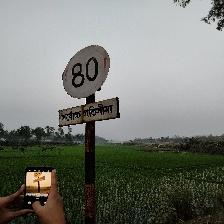Speed-limit: (59, 45, 118, 127)
